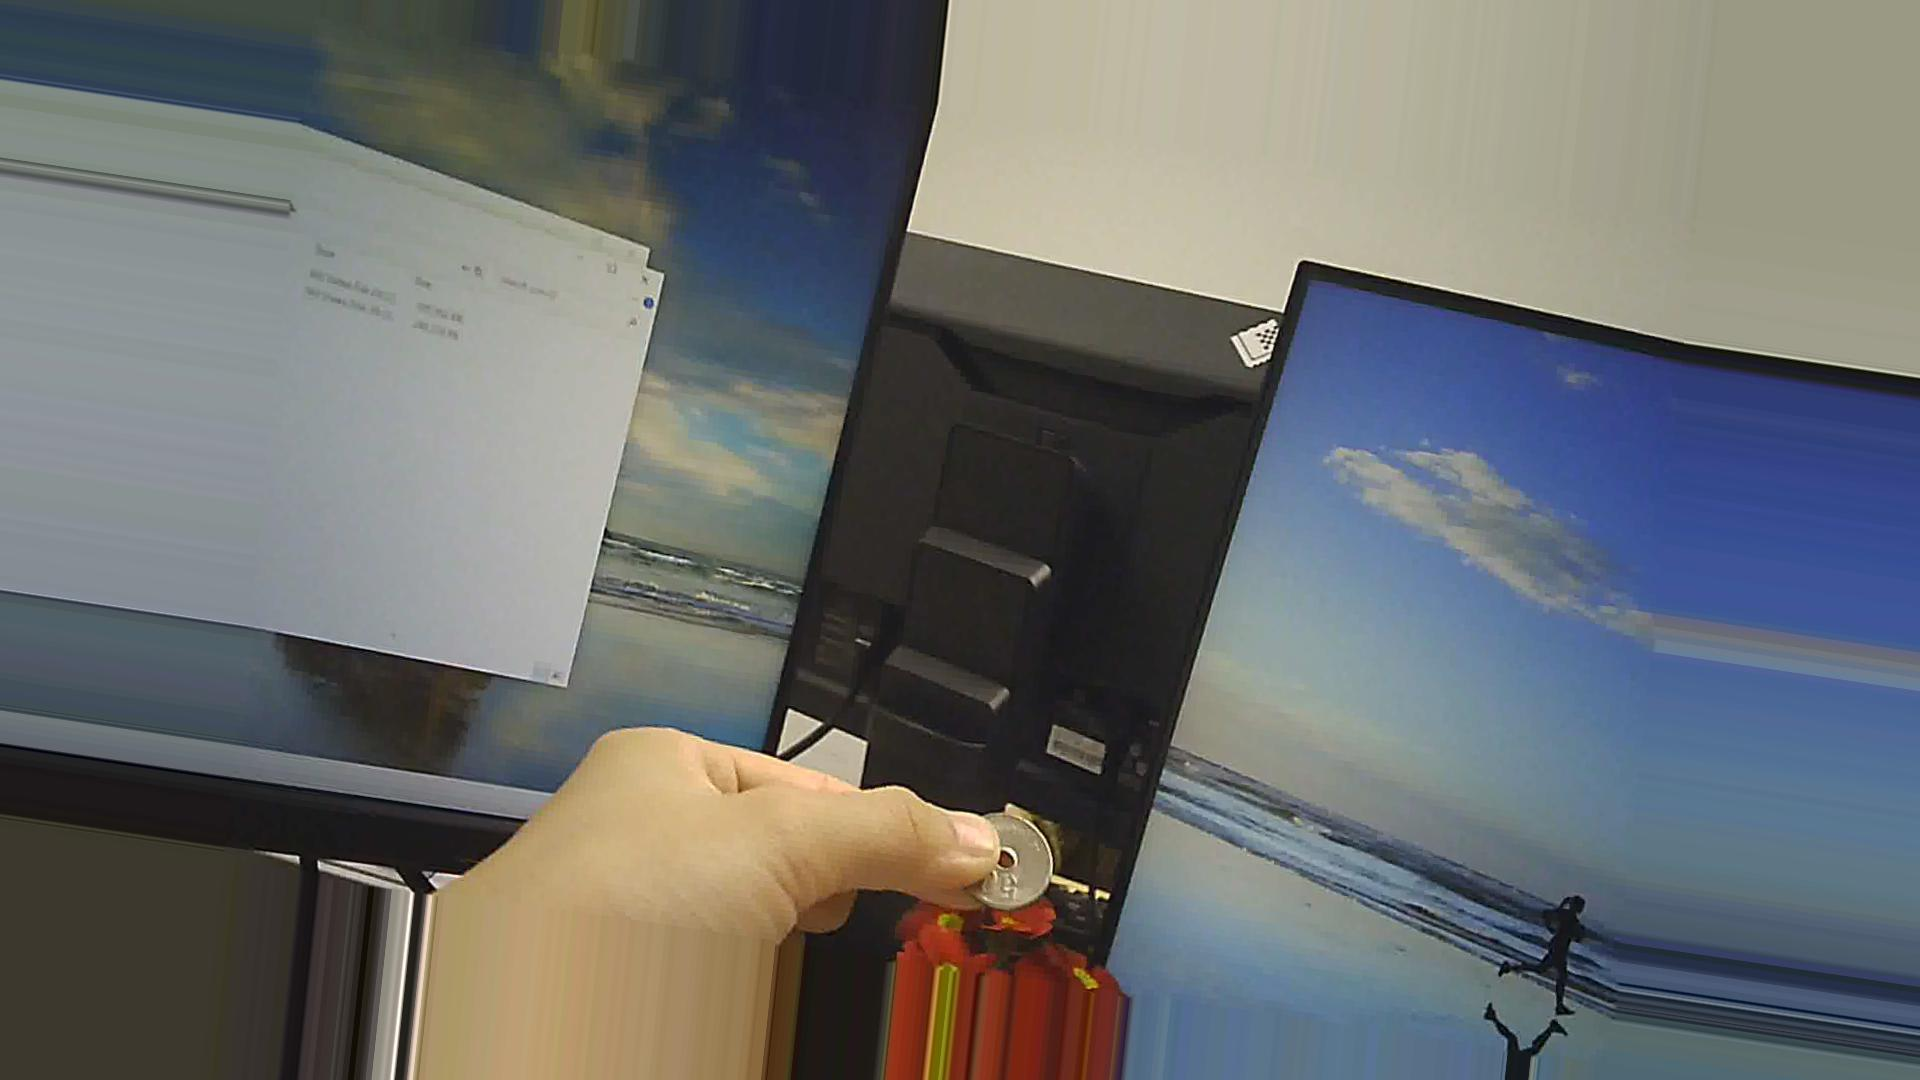50 Yen: (957, 810, 1063, 920)
